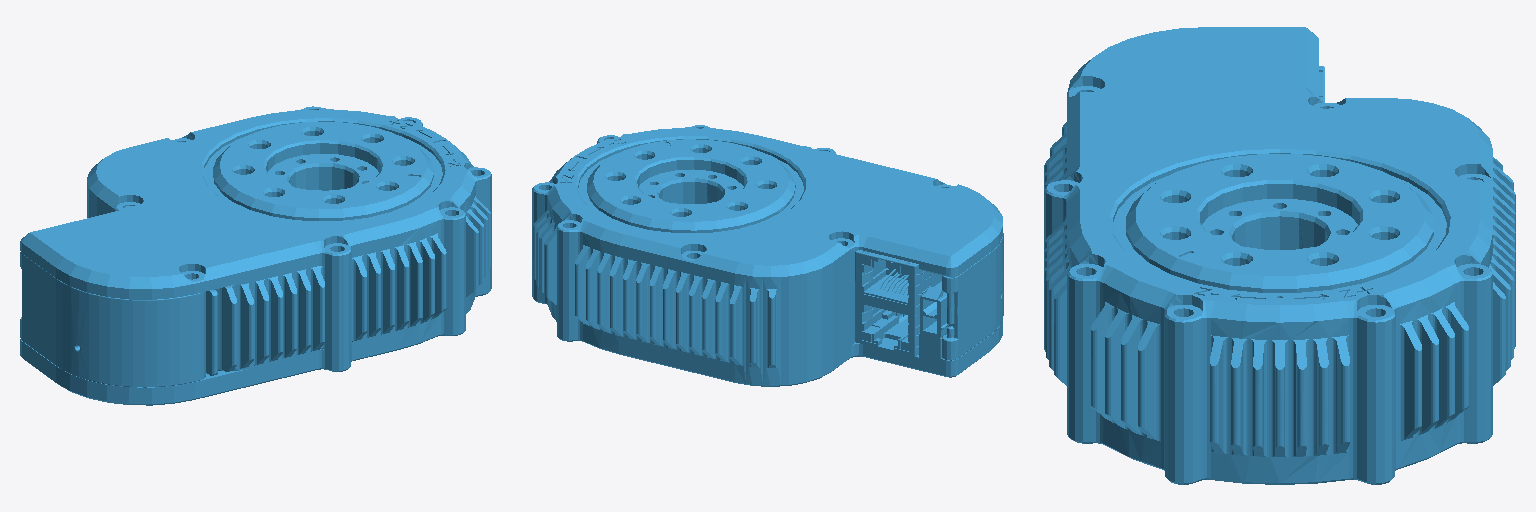
URDF robot description (imr_arm):
<?xml version="1.0"?>
<robot name="imr_arm">
	<link name="world"/>
    <link name="X5-9">
        <inertial>
            <origin rpy="0 0 0" xyz="0 0 0" />
            <mass value="0.35" />
            <inertia ixx="0.01" ixy="0.0" ixz="0.0" iyy="0.01" iyz="0.0" izz="0.01"/>
        </inertial>
        <visual>
            <origin rpy="0 0 0" xyz="0 0 0" />
            <geometry>
							<mesh filename="package://arm_rviz/meshes/X5-9.dae"/>
            </geometry>
        </visual>
        <!-- <collision>
            <origin rpy="0 0 0" xyz="0 0 0" />
            <geometry>
                <box size="0.1 0.1 0.001"/>
            </geometry>
        </collision> -->
    </link>
    <link name="base">
        <inertial>
            <origin rpy="0 0 0" xyz="-0.005 0.016 0.044" />
            <mass value="0.6216" />
            <inertia ixx="0.00528" ixy="0.000041" ixz="-0.000036" iyy="0.000743" iyz="0.000021" izz="0.000516"/>
        </inertial>
        <visual>
            <origin rpy="0 0 0" xyz="0 0 0" />
            <geometry>
                 <mesh filename="package://arm_rviz/meshes/base_assembly.dae"/>
            </geometry>
        </visual>
        <!-- <collision>
            <origin rpy="0 0 0" xyz="0 0 0" />
            <geometry>
                <box size="0.01 0.01 0.01"/>
            </geometry>
        </collision> -->
    </link>
    <link name="link1">
        <origin rpy="0 0 0" xyz="0 0.001 0.212" />
        <inertial>
            <origin rpy="0 0 0" xyz="0 0 0" />
            <mass value="0.6616" />
            <inertia ixx="0.006440" ixy="0.000006" ixz="0.000007" iyy="0.006426" iyz="0.000596" izz="0.000393"/>
        </inertial>
        <visual>
            <origin rpy="0 0 0" xyz="0 0 0" />
            <geometry>
                 <mesh filename="package://arm_rviz/meshes/link1_assembly.dae"/>
            </geometry>
        </visual>
        <!-- <collision>
            <origin rpy="0 0 0" xyz="0 0 0" />
            <geometry>
                <box size="0.01 0.01 0.01"/>
            </geometry>
        </collision> -->
    </link>
     <link name="link2">
        <inertial>
            <origin rpy="0 0 0" xyz="-0.001 0 0.210" />
            <mass value="6.6416" />
            <inertia ixx="0.006348" ixy="0.000006" ixz="-0.000008" iyy="0.006331" iyz="-0.000585" izz="0.000385" />
        </inertial>
        <visual>
            <origin rpy="0 0 0" xyz="0 0 0" />
            <geometry>
                 <mesh filename="package://arm_rviz/meshes/link2_assembly.dae"/>
            </geometry>
        </visual>
     <!-- <collision>
            <origin rpy="0 0 0" xyz="0 0 0" />
            <geometry>
                <box size="0.1 0.1 0.001"/>
            </geometry>
        </collision>-->
    </link>
     <link name="wrist">
        <inertial>
            <origin rpy="0 0 0" xyz="0.010 -0.035 0.050" />
            <mass value="0.4014" />
            <inertia ixx="0.000311" ixy="-0.000138" ixz="0.000028" iyy="-0.000383" iyz="-0.000063" izz="0.000941"/>
        </inertial>
        <visual>
            <origin rpy="0 0 0" xyz="0 0 0" />
            <geometry>
                 <mesh filename="package://arm_rviz/meshes/wrist_assembly.dae"/>
            </geometry>
        </visual>
     <!-- <collision>
            <origin rpy="0 0 0" xyz="0 0 0" />
            <geometry>
                <box size="0.1 0.1 0.001"/>
            </geometry>
        </collision>-->
    </link>

     <link name="EE">
        <inertial>
            <origin rpy="0 0 0" xyz="0.0 0.0 0.001" />
            <mass value="0.001" />
            <inertia ixx="0.000001" ixy="0.000001" ixz="0.000001" iyy="0.000001" iyz="0.000001" izz="0.000001"/>
        </inertial>
        <!-- <visual>
            <origin rpy="0 0 0" xyz="0 0 0" />
            <geometry>
                 <mesh filename="package://arm_rviz/meshes/wrist_assembly.dae"/>
            </geometry>
        </visual> -->
     <!-- <collision>
            <origin rpy="0 0 0" xyz="0 0 0" />
            <geometry>
                <box size="0.1 0.1 0.001"/>
            </geometry>
        </collision>-->
    </link>

		<joint name="Joint0" type="fixed">
				<parent link="world"/>
        <child link="X5-9"/>
    </joint>

    <joint name="Joint1" type="continuous">
        <origin rpy="0 0 0" xyz="0 0 0.031"/>
        <axis xyz="0 0 1"/>
        <parent link="X5-9"/>
        <child link="base"/>
        <!-- <limit lower="-2.6" upper="2.6" effort="9.0" velocity="1.5"/> -->
        <dynamics damping="11.0" friction="0.0"/>
    </joint>
    
    <joint name="Joint2" type="continuous">
        <origin rpy="0 0 0" xyz="0 -0.006 0.055"/>
        <axis xyz="0 -1 0"/>
        <parent link="base"/>
        <child link="link1"/>
        <!-- <limit lower="-3.14" upper="3.14" effort="9.0" velocity="1.5"/> -->
        <dynamics damping="11.0" friction="0.0"/>
    </joint>

    <joint name="Joint3" type="continuous">
        <origin rpy="0 0 0" xyz="0 0.031 0.280"/>
        <axis xyz="0 1 0"/>
        <parent link="link1"/>
        <child link="link2"/>
        <!-- <limit lower="-6.4" upper="6.6" effort="9.0" velocity="1.5"/> -->
        <dynamics damping="10.0" friction="0.0"/>
    </joint>
    <joint name="Joint4" type="continuous">
        <origin rpy="0 0 0" xyz="0 -0.031 0.280"/>
        <axis xyz="0 -1 0"/>
        <parent link="link2"/>
        <child link="wrist"/>
        <!-- <limit effort="9.0" velocity="1.5"/> -->
        <dynamics damping="9.0" friction="0.0"/>
    </joint>
    <joint name="Joint5" type="continuous">
        <origin rpy="0 0 0" xyz="0 -0.04 0.07"/>
        <axis xyz="0 -1 0"/>
        <parent link="wrist"/>
        <child link="EE"/>
        <!-- <limit effort="9.0" velocity="1.5"/> -->
        <dynamics damping="9.0" friction="0.0"/>
    </joint>
</robot>

--- What the picture shows (computed from the rendered views, not written in the file) ---
The picture shows the robot from 3 angles, left to right: view 1: azimuth 30°, elevation 25°; view 2: azimuth 150°, elevation 25°; view 3: azimuth 270°, elevation 25°; orthographic projection.
Model imr_arm with 7 links and 6 joints (5 continuous, 1 fixed), rooted at world, posed all joints at 0.
Links seen in each view (by area): view 1: X5-9; view 2: X5-9; view 3: X5-9.
Link boxes in pixels (x1,y1,x2,y2): X5-9: (20,106,491,405); X5-9: (532,125,1003,386); X5-9: (1044,27,1515,484).
Bounding box of the posed robot: 0.1096 × 0.073 × 0.031 m (x, y, z).
Meshes: 5 distinct files referenced, 1 mesh visuals loaded (1 Collada DAE); not drawn: 4 (reference not matched to a file when rendering).